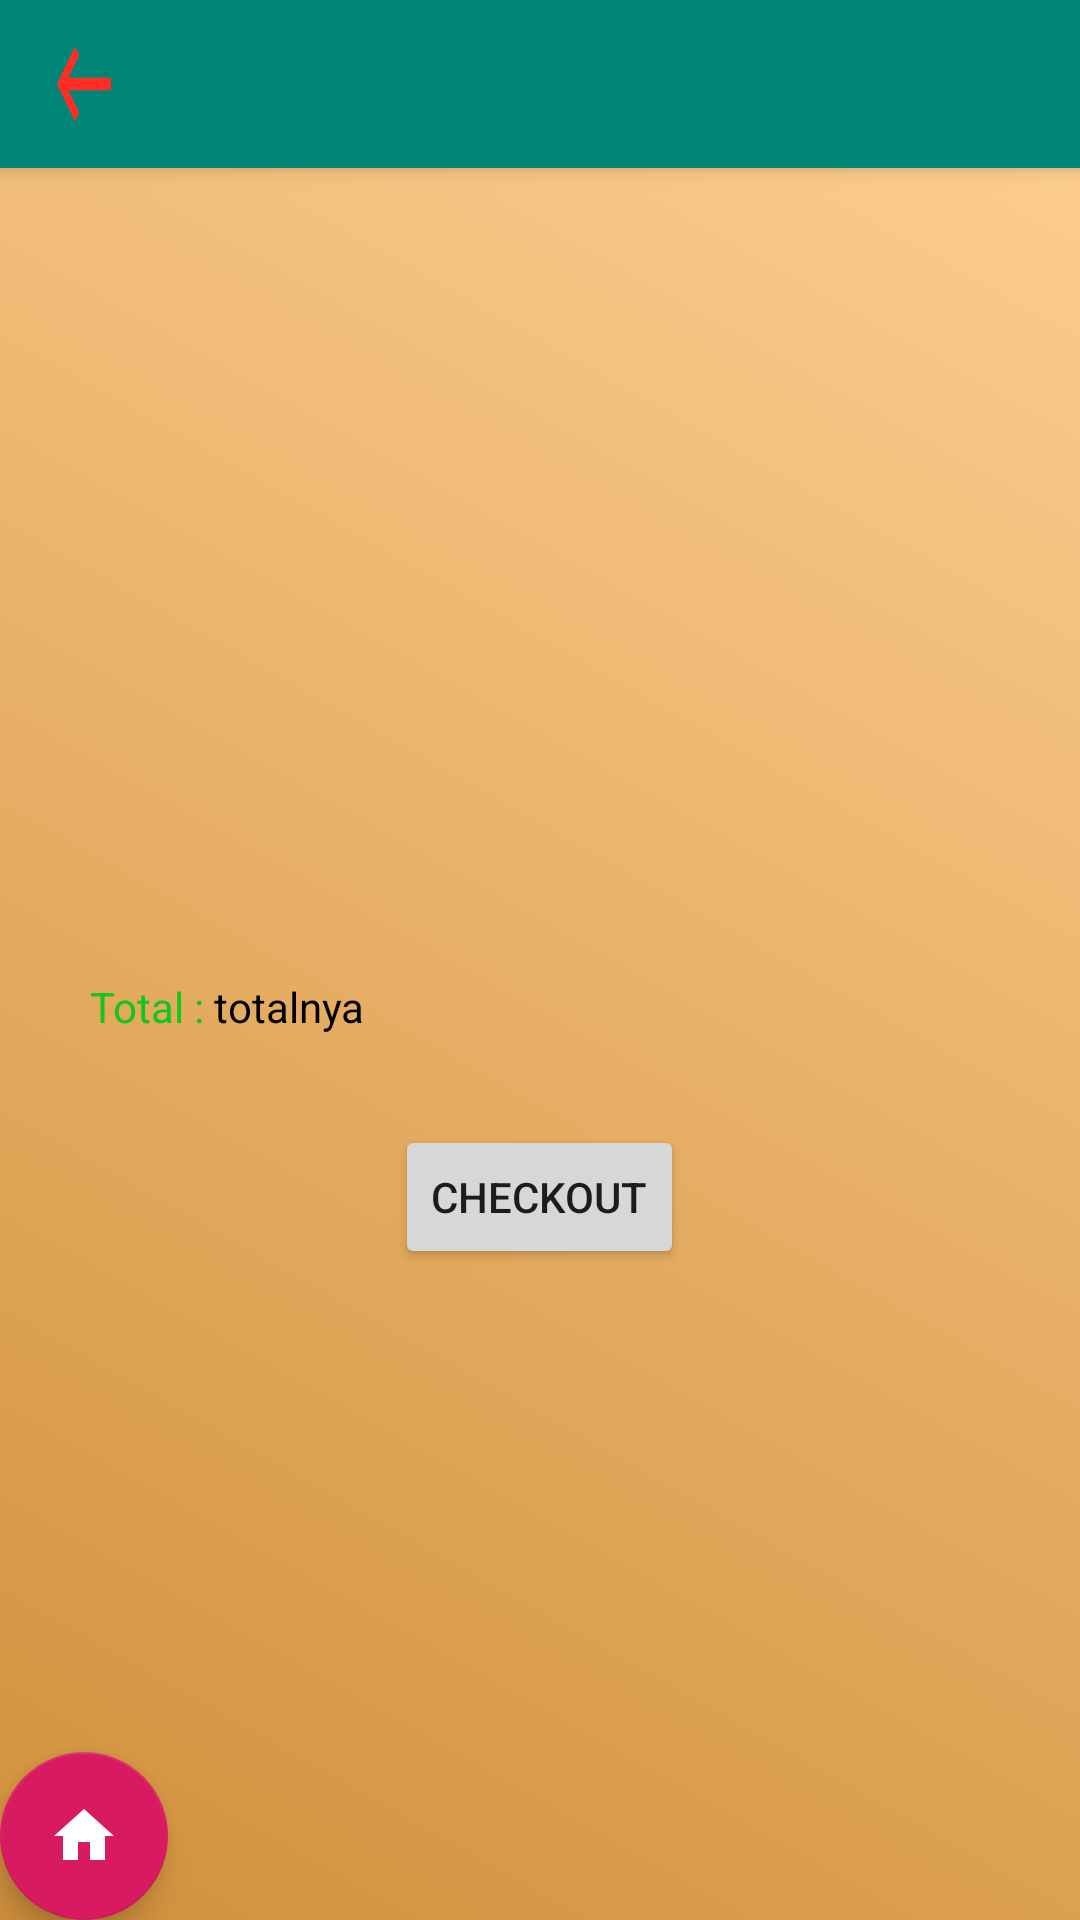

Screen size 1080 × 1920. Icon name, then its box in pixels as (x1, y1, x2, y2):
home: (0, 1752, 168, 1920)
keyboard backspace: (57, 47, 111, 121)
